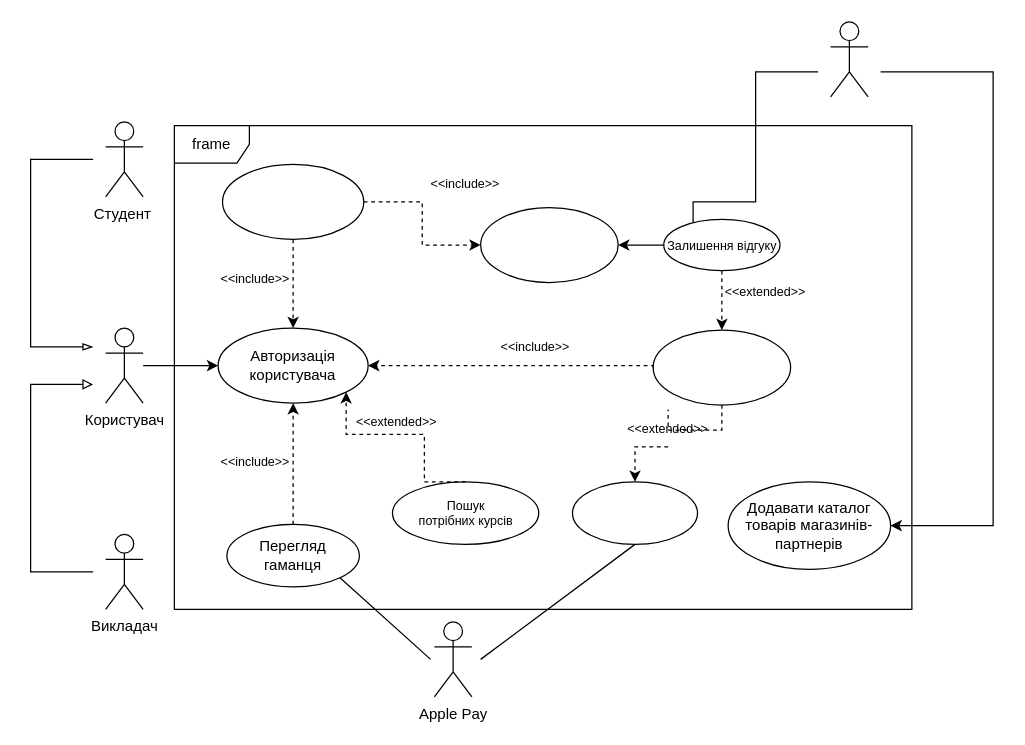
This 1025x745 diagram has some shape labels left out. The box of each missing label's shape, as (x1, y1, x2, y2) in pixels:
Адміністратор: (829, 21, 868, 97)
Замовлення курсу: (652, 329, 791, 405)
Обробка транзакції: (571, 481, 698, 544)
Перевірка курсів: (479, 206, 618, 282)
Створення курсів: (221, 163, 364, 239)
